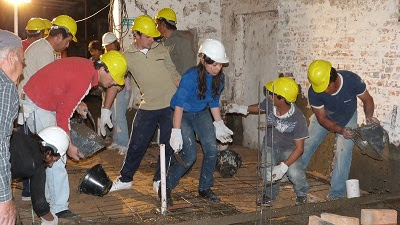casco: (36, 125, 72, 166), (98, 49, 128, 88), (263, 76, 299, 104), (306, 59, 333, 95), (50, 14, 80, 44), (197, 38, 230, 65), (131, 14, 161, 38), (25, 17, 50, 36), (156, 8, 177, 25), (100, 31, 118, 47), (42, 18, 52, 28)
